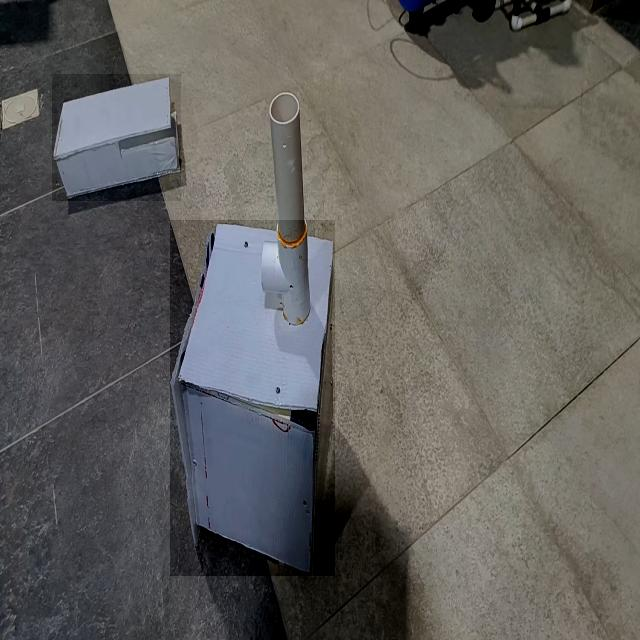Cube: (170, 220, 335, 576)
Cuboid: (52, 74, 181, 201)
